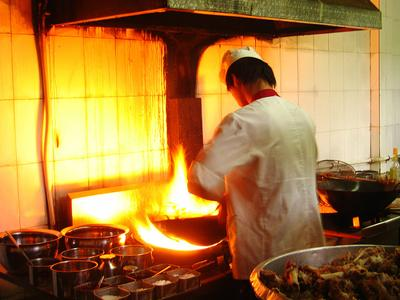person: (189, 49, 328, 295)
